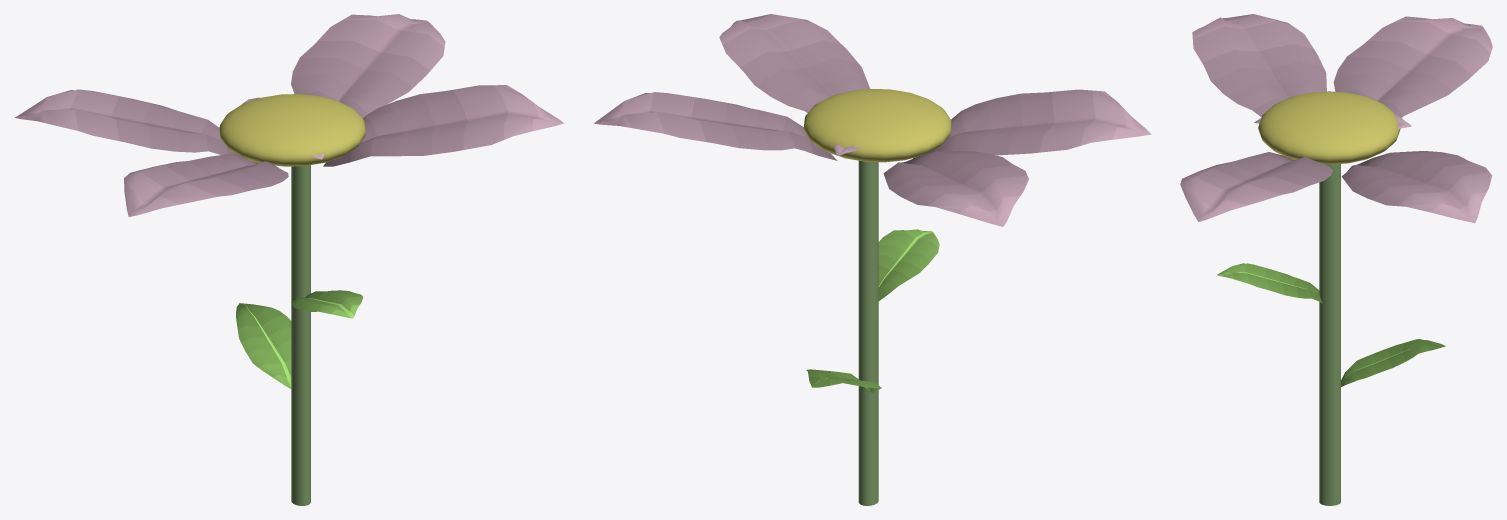
File: pink3.fbx
The picture shows the model from 3 angles, left to right: view 1: azimuth 30°, elevation 25°; view 2: azimuth 150°, elevation 25°; view 3: azimuth 270°, elevation 25°; orthographic projection. The views are drawn at different scales.
Visible parts, largest first — view 1: pasted__pasted__pasted__polySurface1, pasted__pasted__pasted__pasted__pasted__polySurface1, pSphere1, pasted__pCylinder1, polySurface1, pasted__polySurface1; view 2: pasted__pasted__pasted__pasted__pasted__polySurface1, pasted__pasted__pasted__polySurface1, pSphere1, pasted__pCylinder1, pasted__polySurface1, polySurface1; view 3: pasted__pasted__pasted__pasted__pasted__polySurface1, pasted__pasted__pasted__polySurface1, pSphere1, pasted__pCylinder1, pasted__polySurface1, polySurface1.
Part boxes in pixels (x1,y1,x2,y2): pasted__pasted__pasted__polySurface1: (15, 85, 564, 166); pasted__pasted__pasted__pasted__pasted__polySurface1: (124, 14, 445, 216); pSphere1: (219, 94, 365, 166); pasted__pCylinder1: (291, 165, 310, 505); polySurface1: (236, 303, 291, 388); pasted__polySurface1: (291, 290, 363, 318); pasted__pasted__pasted__pasted__pasted__polySurface1: (593, 89, 1151, 160); pasted__pasted__pasted__polySurface1: (719, 14, 1028, 226); pSphere1: (803, 89, 951, 162); pasted__pCylinder1: (858, 160, 878, 505); pasted__polySurface1: (878, 229, 939, 301); polySurface1: (806, 369, 881, 392); pasted__pasted__pasted__pasted__pasted__polySurface1: (1192, 14, 1492, 222); pasted__pasted__pasted__polySurface1: (1180, 16, 1492, 221); pSphere1: (1258, 91, 1400, 164); pasted__pCylinder1: (1319, 164, 1340, 505); pasted__polySurface1: (1216, 263, 1322, 303); polySurface1: (1341, 339, 1445, 386).
Bounding box in the file's own units: 0.6459 × 0.5783 × 0.4156.
